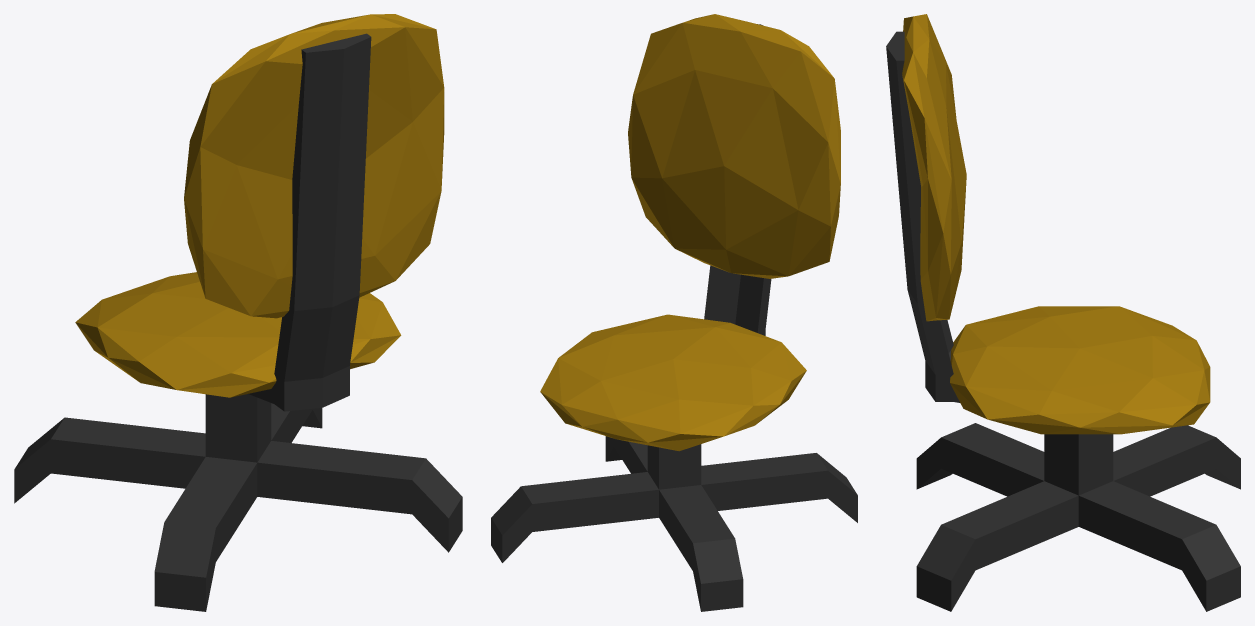
File: OfficeChair.fbx
3 renders of one model, left to right at view 1: azimuth 30°, elevation 25°; view 2: azimuth 150°, elevation 25°; view 3: azimuth 270°, elevation 25°, orthographic. The views are drawn at different scales.
Parts seen in each view (by area): view 1: Office Chair; view 2: Office Chair; view 3: Office Chair.
Part boxes in pixels (left/top/right/bottom): Office Chair: left=14, top=14, right=462, bottom=611; Office Chair: left=491, top=14, right=857, bottom=611; Office Chair: left=886, top=14, right=1240, bottom=611.
Size of the model in its own units: 75.31 by 131 by 82.43.
